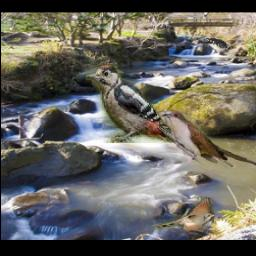Cuckoo: (161, 111, 256, 168), (155, 198, 215, 231)
Woodpecker: (87, 65, 188, 144), (201, 37, 233, 54)
